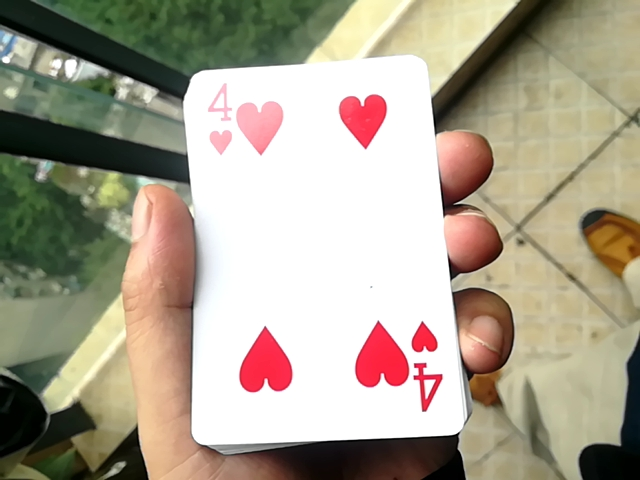hx 4: (171, 36, 463, 437)
